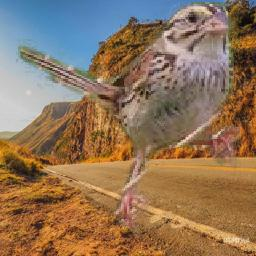Sparrow: (17, 3, 242, 238)
